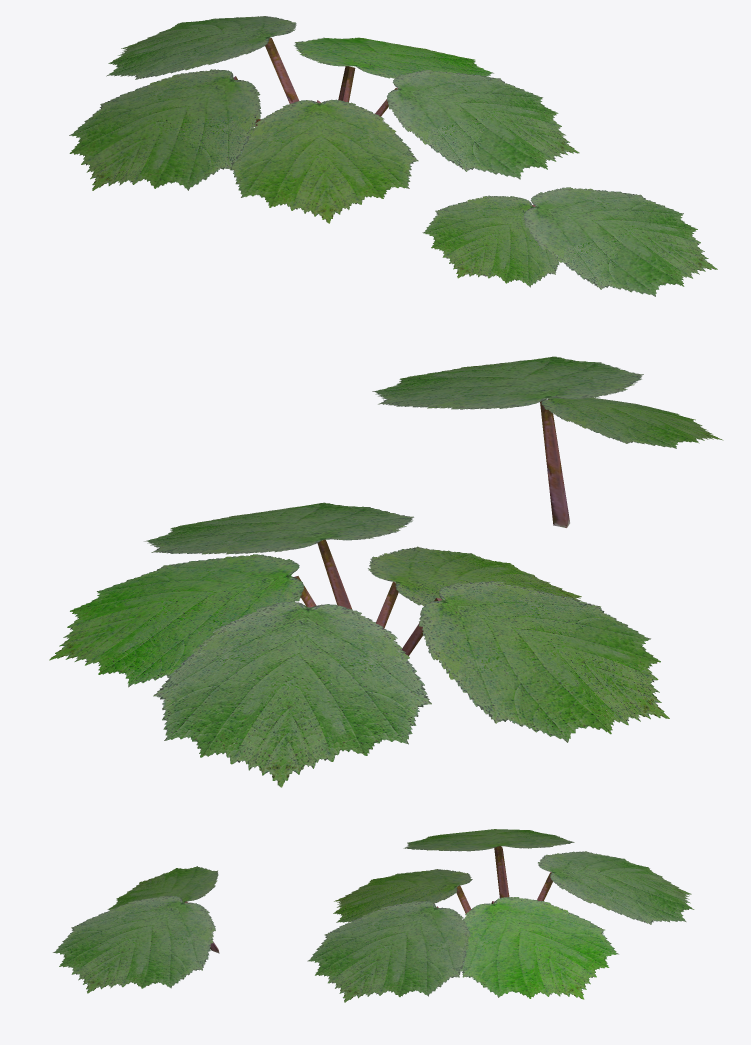
File: BigleafShrubbery_01_v02.obj
The picture shows the model from 3 angles, top to bottom: view 1: azimuth 30°, elevation 25°; view 2: azimuth 150°, elevation 25°; view 3: azimuth 270°, elevation 25°; orthographic projection. The views are drawn at different scales.
Parts seen in each view (by area): view 1: polySurface1; view 2: polySurface1; view 3: polySurface1.
Boxes of the visible parts, x1,y1,x2,y2 form: polySurface1: (69, 16, 717, 296); polySurface1: (49, 356, 723, 787); polySurface1: (53, 829, 694, 1002).
Size of the model in its own units: 10.71 by 2.07 by 16.57.
Materials: 1 (1 with a texture image).
